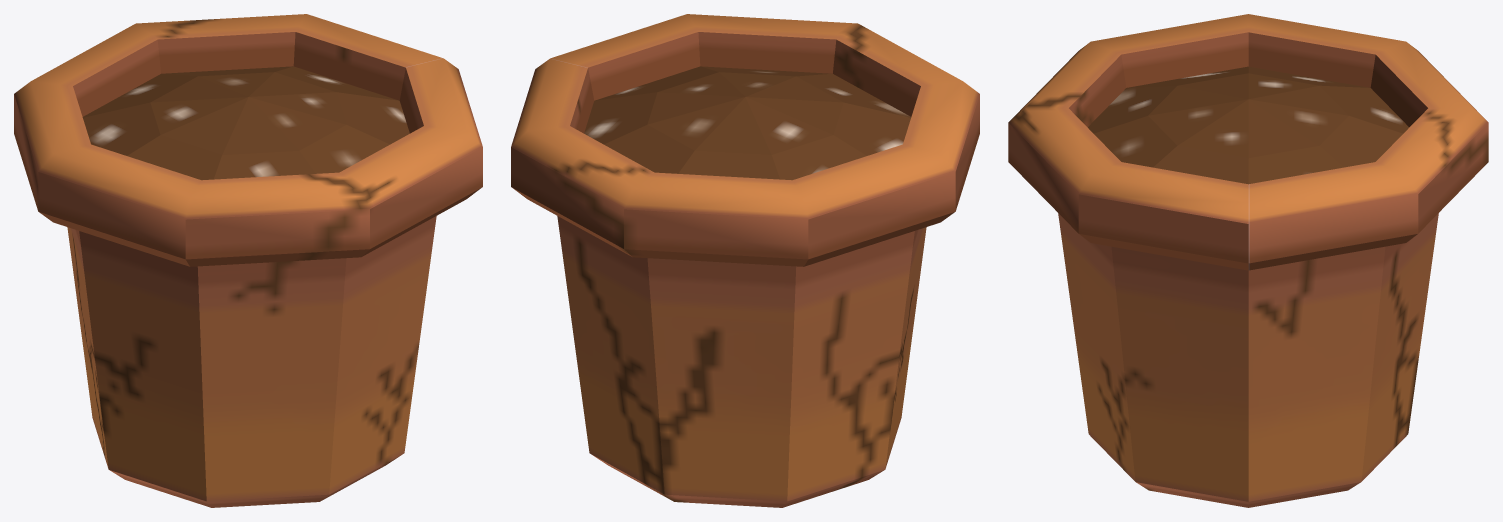
The model's file is Pot_damage.fbx.
3 renders of one model, left to right at view 1: azimuth 30°, elevation 25°; view 2: azimuth 150°, elevation 25°; view 3: azimuth 270°, elevation 25°, orthographic.
Visible parts, largest first — view 1: Pot_damage; view 2: Pot_damage; view 3: Pot_damage.
Part boxes in pixels (x1,y1,x2,y2): Pot_damage: [14, 14, 482, 507]; Pot_damage: [511, 14, 979, 507]; Pot_damage: [1008, 14, 1488, 507].
Bounding box in the file's own units: 33.54 × 33.54 × 26.9.
Materials: 1 (1 with a texture image).
